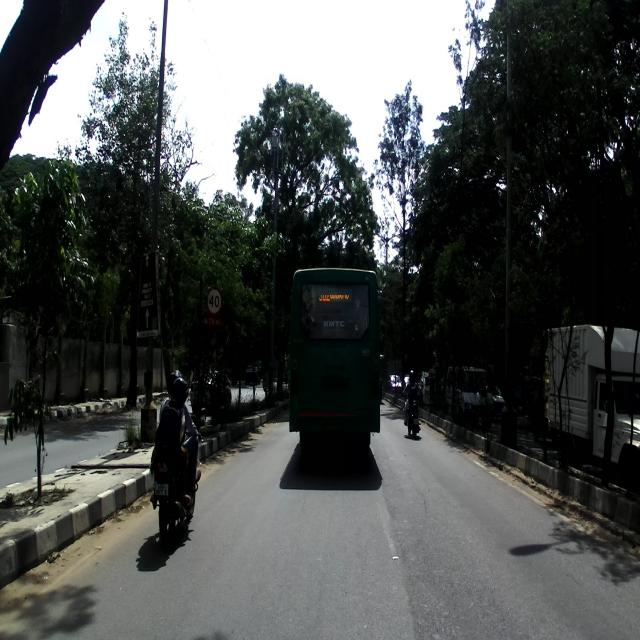bus: (286, 260, 384, 447)
motorcycle: (148, 428, 204, 548)
